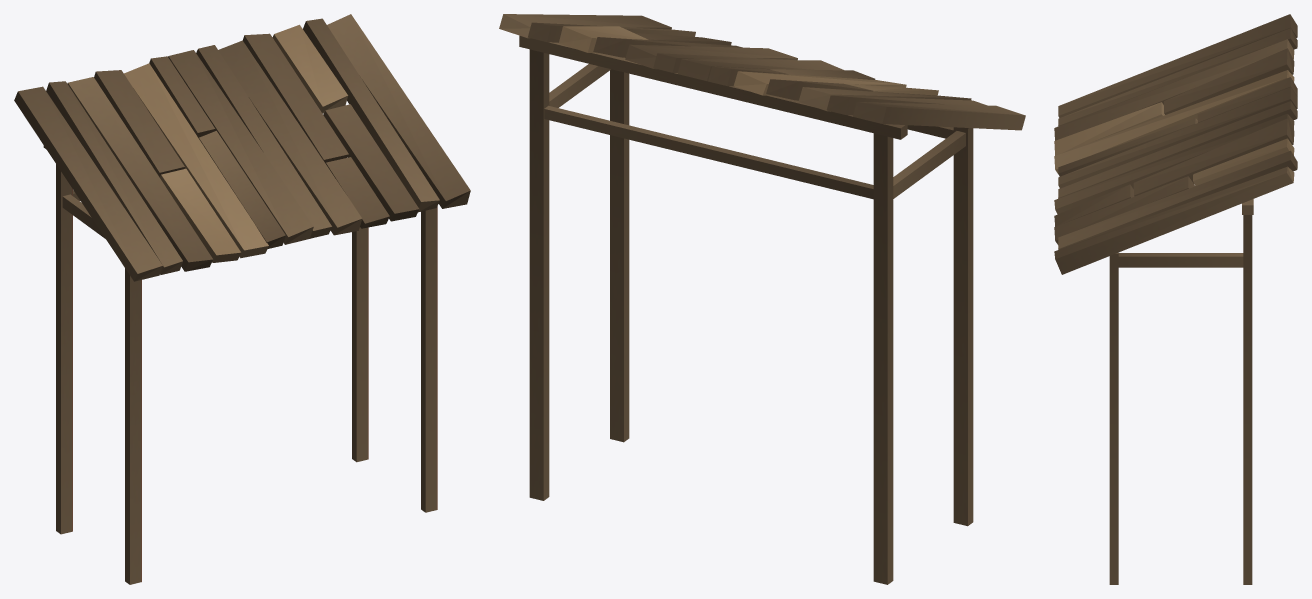
File: ZLP_Build_D_9.FBX
The picture shows the model from 3 angles, left to right: view 1: azimuth 30°, elevation 25°; view 2: azimuth 150°, elevation 25°; view 3: azimuth 270°, elevation 25°; orthographic projection. The views are drawn at different scales.
Parts seen in each view (by area): view 1: ZLP_Build_D_9; view 2: ZLP_Build_D_9; view 3: ZLP_Build_D_9.
Part boxes in pixels (bbox=[...]): ZLP_Build_D_9: bbox=[14, 14, 470, 584]; ZLP_Build_D_9: bbox=[499, 14, 1025, 584]; ZLP_Build_D_9: bbox=[1054, 14, 1297, 584].
Size of the model in its own units: 251 by 309 by 163.
